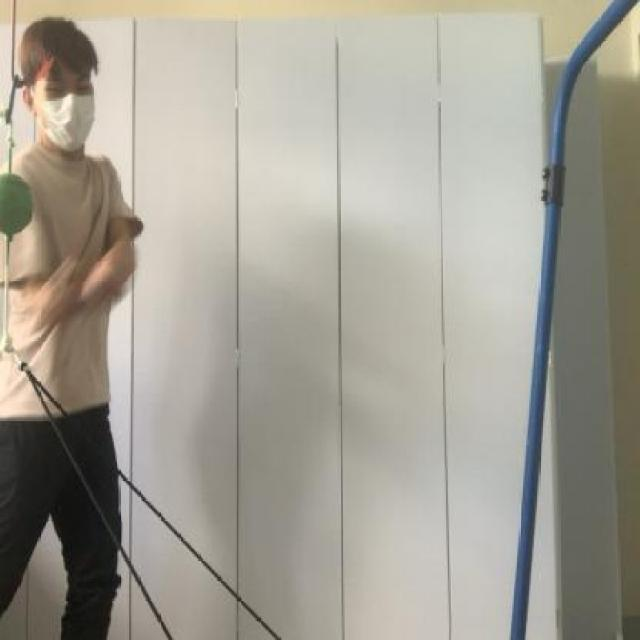baseball: (0, 164, 48, 258)
